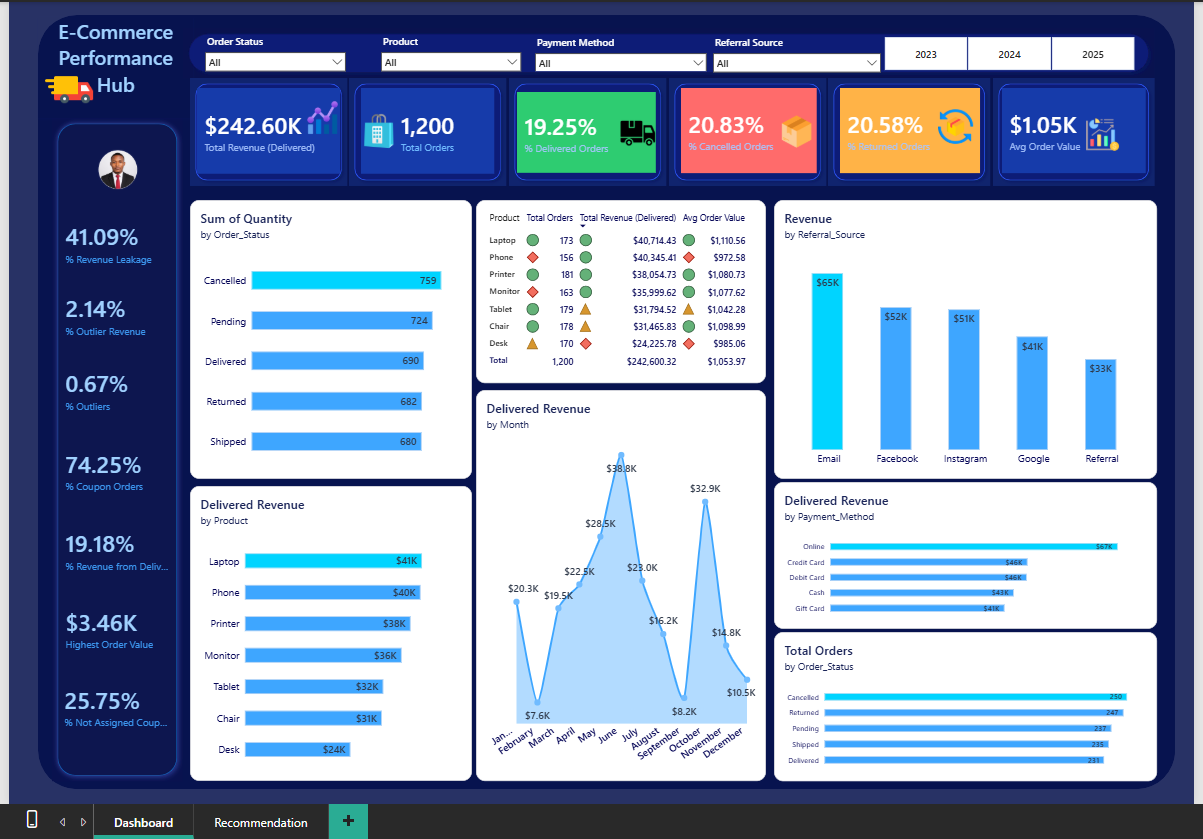

Layout of this report page (visuals, bound fields, positions):
{"tool":"powerbi","page":{"name":"Dashboard","canvas":[1920,1300],"ordinal":0},"visuals":[{"type":"shape","box":[46.7,21.7,1843.3,1255],"z":0},{"type":"shape","box":[70,188.3,211.7,1075],"z":1000},{"type":"shape","box":[281.7,41.7,1575,81.7],"z":2000},{"type":"textbox","box":[46.7,25,251.7,163.3],"z":3000},{"type":"shape","box":[293.3,123.3,255,175],"z":4000},{"type":"shape","box":[810,123.3,255,175],"z":5000},{"type":"shape","box":[1070,123.3,255,175],"z":6000},{"type":"shape","box":[1328.3,123.3,263.3,175],"z":7000},{"type":"shape","box":[1595,123.3,261.7,175],"z":8000},{"type":"shape","box":[551.7,123.3,255,175],"z":9000},{"type":"cardVisual","fields":{"Data":["Ecommerce Order CodeLabs.Total Revenue (Delivered)"]},"box":[304.7,139.4,231.8,139.4],"z":10000},{"type":"cardVisual","fields":{"Data":["Ecommerce Order CodeLabs.% Revenue Leakage"]},"box":[80,331.7,196.7,116.7],"z":11000},{"type":"cardVisual","fields":{"Data":["Ecommerce Order CodeLabs.% Outlier Revenue"]},"box":[80,448.3,195,116.7],"z":12000},{"type":"cardVisual","fields":{"Data":["Ecommerce Order CodeLabs.% Outliers"]},"box":[80,565,196.7,126.7],"z":13000},{"type":"cardVisual","fields":{"Data":["Ecommerce Order CodeLabs.% Coupon Orders"]},"box":[80,691.7,196.7,133.3],"z":14000},{"type":"cardVisual","fields":{"Data":["Ecommerce Order CodeLabs.% Revenue from Delivered"]},"box":[80,825,193.3,126.7],"z":15000},{"type":"cardVisual","fields":{"Data":["Ecommerce Order CodeLabs.Highest Order Value"]},"box":[80,951.7,195,128.3],"z":16000},{"type":"clusteredBarChart","title":"Delivered Revenue ","fields":{"Category":["Ecommerce Order CodeLabs.Product"],"Y":["Ecommerce Order CodeLabs.Total Revenue (Delivered)"]},"box":[293.4,784.5,457,478.2],"z":17000},{"type":"clusteredBarChart","fields":{"Category":["Ecommerce Order CodeLabs.Order_Status"],"Y":["Ecommerce Order CodeLabs.Total Orders"]},"box":[1240,1021.2,620.8,241.5],"z":18000},{"type":"barChart","title":"Sum of Quantity ","fields":{"Category":["Ecommerce Order CodeLabs.Order_Status"],"Y":["Sum(Ecommerce Order CodeLabs.Quantity)"]},"box":[293.4,320.9,457,452.2],"z":19000},{"type":"columnChart","title":"Revenue  ","fields":{"Category":["Ecommerce Order CodeLabs.Referral_Source"],"Y":["Ecommerce Order CodeLabs.Total Revenue (Delivered)"]},"box":[1240,320.9,620.8,452.2],"z":20000},{"type":"clusteredBarChart","title":"Delivered Revenue","fields":{"Category":["Ecommerce Order CodeLabs.Payment_Method"],"Y":["Ecommerce Order CodeLabs.Total Revenue (Delivered)"]},"box":[1240,778.1,620.8,238.3],"z":21000},{"type":"pivotTable","fields":{"Rows":["Ecommerce Order CodeLabs.Product"],"Values":["Ecommerce Order CodeLabs.Total Orders","Ecommerce Order CodeLabs.Total Revenue (Delivered)","Ecommerce Order CodeLabs.Avg Order Value"]},"box":[757,320.9,470.1,296.6],"z":22000},{"type":"cardVisual","fields":{"Data":["Ecommerce Order CodeLabs.% Delivered Orders"]},"box":[823.4,145.9,225.3,131.3],"z":23000},{"type":"cardVisual","fields":{"Data":["Ecommerce Order CodeLabs.% Cancelled Orders"]},"box":[1089.3,139.4,220.4,137.8],"z":24000},{"type":"cardVisual","fields":{"Data":["Ecommerce Order CodeLabs.% Returned Orders"]},"box":[1347,139.4,226.9,137.8],"z":25000},{"type":"cardVisual","fields":{"Data":["Ecommerce Order CodeLabs.Avg Order Value"]},"box":[1610,140,233.3,138.3],"z":26000},{"type":"image","box":[80,210,193.3,121.7],"z":27000},{"type":"slicer","fields":{"Values":["Ecommerce Order CodeLabs.Order_Status"]},"box":[313.3,53.3,238.3,70],"z":28000},{"type":"slicer","fields":{"Values":["Ecommerce Order CodeLabs.Product"]},"box":[598.3,53.3,236.7,86.7],"z":29000},{"type":"slicer","fields":{"Values":["Ecommerce Order CodeLabs.Payment_Method"]},"box":[848.3,55,288.3,56.7],"z":30000},{"type":"slicer","fields":{"Values":["Ecommerce Order CodeLabs.Referral_Source"]},"box":[1136.7,55,281.7,68.3],"z":31000},{"type":"cardVisual","fields":{"Data":["Ecommerce Order CodeLabs.% Not Assigned Coupon"]},"box":[77.8,1079.6,196.1,124.8],"z":32000},{"type":"card","fields":{"Values":["Ecommerce Order CodeLabs.Total Orders"]},"box":[570.6,139.4,215.6,139.4],"z":33000},{"type":"lineChart","title":"Delivered Revenue","fields":{"Y":["Ecommerce Order CodeLabs.Total Revenue (Delivered)"],"Category":["Ecommerce Order CodeLabs.Month Name"]},"box":[757,628.9,470.1,633.8],"z":34000},{"type":"slicer","fields":{"Values":["Ecommerce Order CodeLabs.Year"]},"box":[1398.9,55.1,444.1,56.7],"z":35000},{"type":"image","box":[570.6,139.4,58.4,139.4],"z":36000},{"type":"image","box":[479.8,118.3,56.7,137.8],"z":37000},{"type":"image","box":[990.4,142.6,58.4,139.4],"z":38000},{"type":"image","box":[58.4,97.3,77.8,90.8],"z":39000},{"type":"image","box":[1248.1,141,56.7,137.8],"z":40000},{"type":"image","box":[1744.1,145.9,56.7,137.8],"z":41000},{"type":"image","box":[1505.9,132.9,56.7,137.8],"z":42000}]}

Visuals, with their boxes on the page's 1920x1300 design canvas (x1, y1, x2, y2). These are canvas units, not pixel positions in the 1203x839 screenshot, which may show the page scaled, cropped or inside an application window:
shape: bbox=[47, 22, 1890, 1277]
shape: bbox=[70, 188, 282, 1263]
shape: bbox=[282, 42, 1857, 123]
textbox: bbox=[47, 25, 298, 188]
shape: bbox=[293, 123, 548, 298]
shape: bbox=[810, 123, 1065, 298]
shape: bbox=[1070, 123, 1325, 298]
shape: bbox=[1328, 123, 1592, 298]
shape: bbox=[1595, 123, 1857, 298]
shape: bbox=[552, 123, 807, 298]
cardVisual - Ecommerce Order CodeLabs.Total Revenue (Delivered): bbox=[305, 139, 536, 279]
cardVisual - Ecommerce Order CodeLabs.% Revenue Leakage: bbox=[80, 332, 277, 448]
cardVisual - Ecommerce Order CodeLabs.% Outlier Revenue: bbox=[80, 448, 275, 565]
cardVisual - Ecommerce Order CodeLabs.% Outliers: bbox=[80, 565, 277, 692]
cardVisual - Ecommerce Order CodeLabs.% Coupon Orders: bbox=[80, 692, 277, 825]
cardVisual - Ecommerce Order CodeLabs.% Revenue from Delivered: bbox=[80, 825, 273, 952]
cardVisual - Ecommerce Order CodeLabs.Highest Order Value: bbox=[80, 952, 275, 1080]
"Delivered Revenue " clusteredBarChart: bbox=[293, 784, 750, 1263]
clusteredBarChart - Ecommerce Order CodeLabs.Order_Status x Ecommerce Order CodeLabs.Total Orders: bbox=[1240, 1021, 1861, 1263]
"Sum of Quantity " barChart: bbox=[293, 321, 750, 773]
"Revenue  " columnChart: bbox=[1240, 321, 1861, 773]
"Delivered Revenue" clusteredBarChart: bbox=[1240, 778, 1861, 1016]
pivotTable - Ecommerce Order CodeLabs.Product x Ecommerce Order CodeLabs.Total Orders: bbox=[757, 321, 1227, 618]
cardVisual - Ecommerce Order CodeLabs.% Delivered Orders: bbox=[823, 146, 1049, 277]
cardVisual - Ecommerce Order CodeLabs.% Cancelled Orders: bbox=[1089, 139, 1310, 277]
cardVisual - Ecommerce Order CodeLabs.% Returned Orders: bbox=[1347, 139, 1574, 277]
cardVisual - Ecommerce Order CodeLabs.Avg Order Value: bbox=[1610, 140, 1843, 278]
image: bbox=[80, 210, 273, 332]
slicer - Ecommerce Order CodeLabs.Order_Status: bbox=[313, 53, 552, 123]
slicer - Ecommerce Order CodeLabs.Product: bbox=[598, 53, 835, 140]
slicer - Ecommerce Order CodeLabs.Payment_Method: bbox=[848, 55, 1137, 112]
slicer - Ecommerce Order CodeLabs.Referral_Source: bbox=[1137, 55, 1418, 123]
cardVisual - Ecommerce Order CodeLabs.% Not Assigned Coupon: bbox=[78, 1080, 274, 1204]
card - Ecommerce Order CodeLabs.Total Orders: bbox=[571, 139, 786, 279]
"Delivered Revenue" lineChart: bbox=[757, 629, 1227, 1263]
slicer - Ecommerce Order CodeLabs.Year: bbox=[1399, 55, 1843, 112]
image: bbox=[571, 139, 629, 279]
image: bbox=[480, 118, 536, 256]
image: bbox=[990, 143, 1049, 282]
image: bbox=[58, 97, 136, 188]
image: bbox=[1248, 141, 1305, 279]
image: bbox=[1744, 146, 1801, 284]
image: bbox=[1506, 133, 1563, 271]
